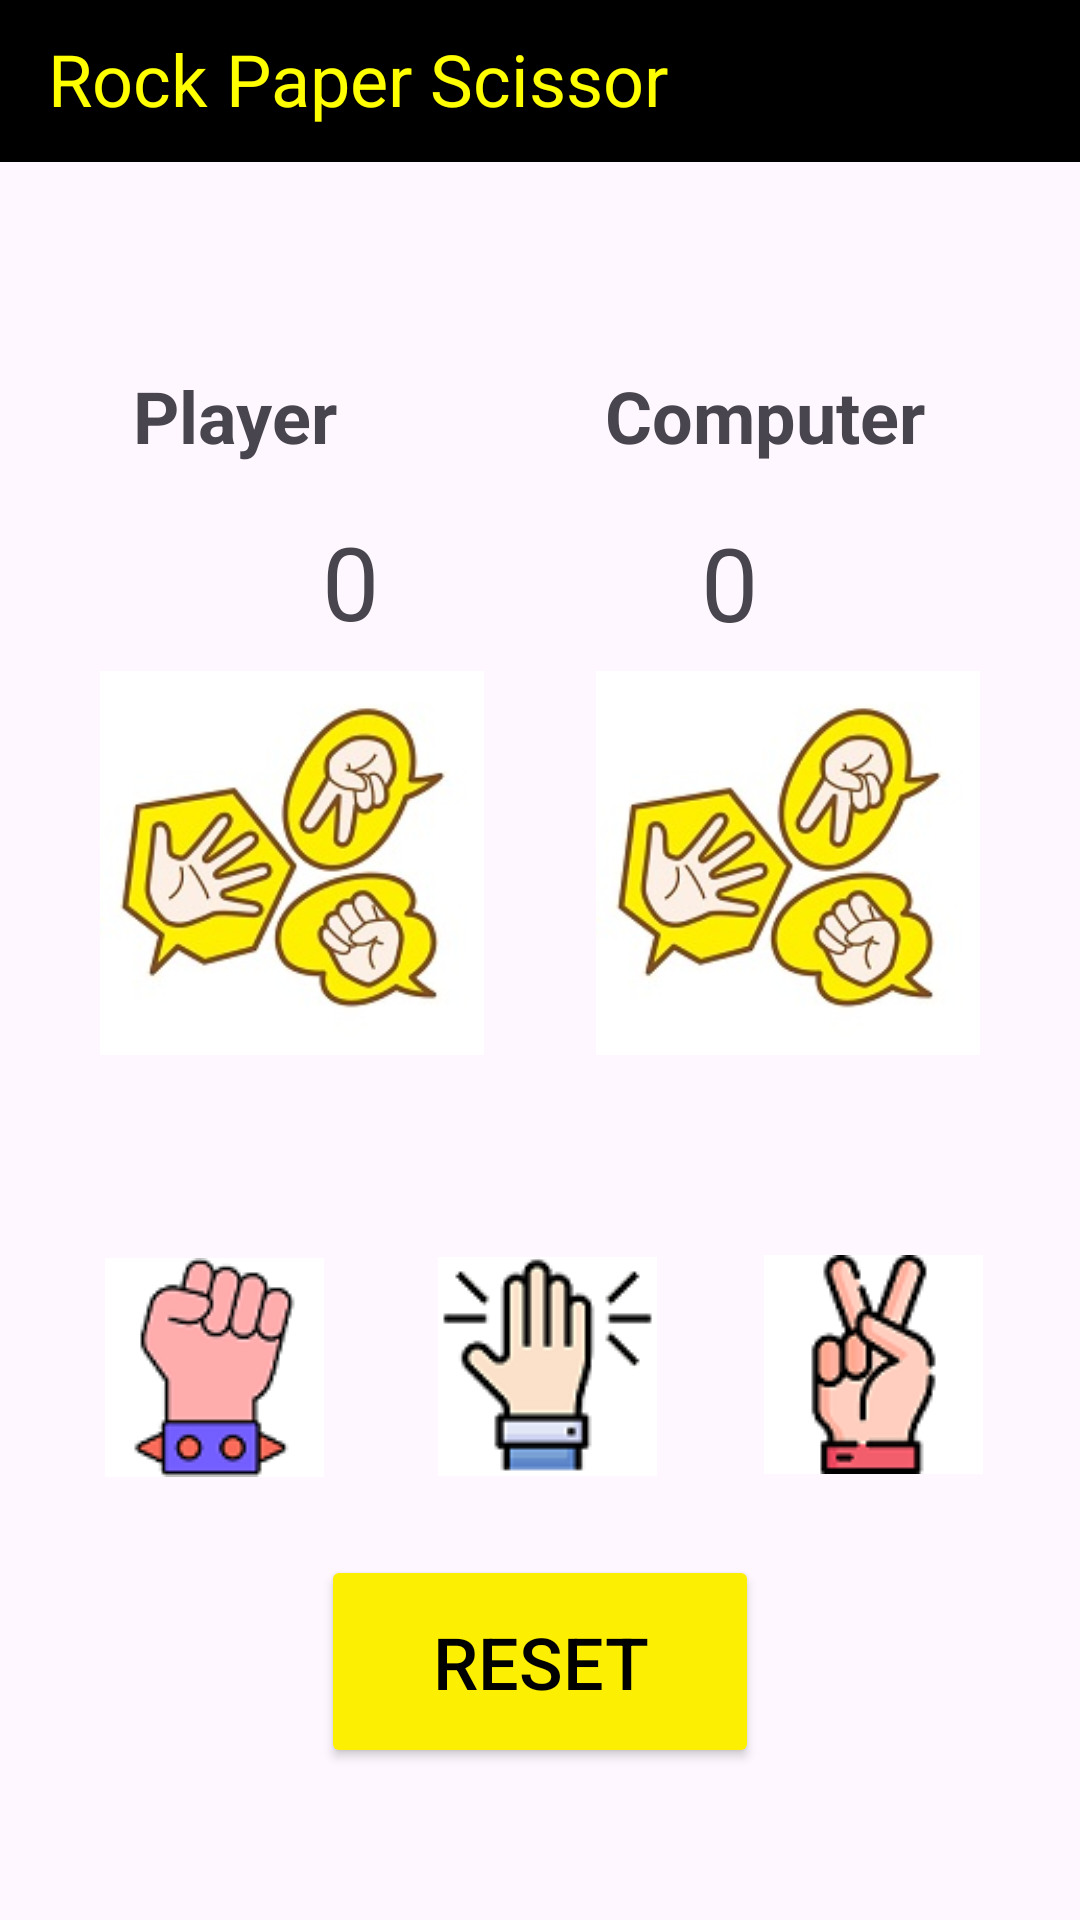

Icons on this 1080px×1920px Android screen, each with the point to tap as (x=x, y=y):
paper: (x=547, y=1365)
rock: (x=214, y=1367)
scissor: (x=873, y=1364)
